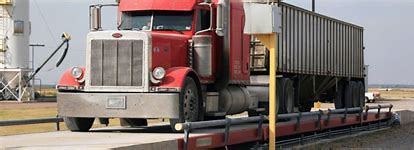Industrial Scale: (1, 104, 403, 147)
